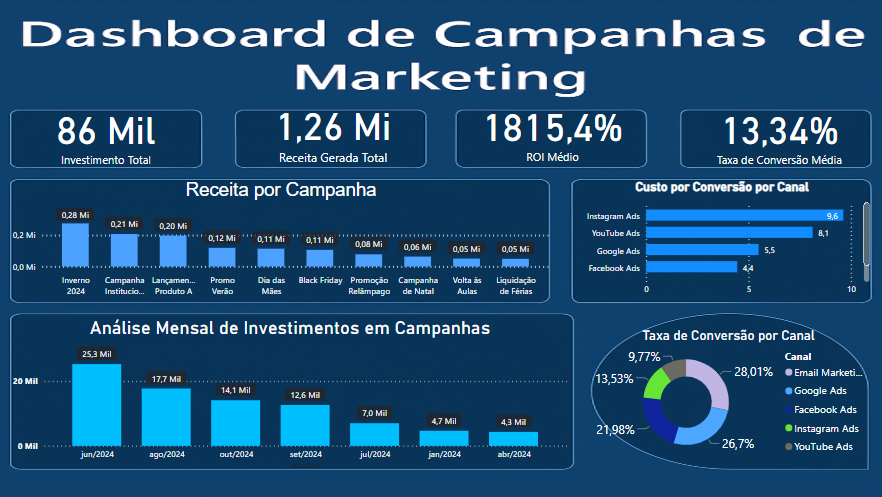

What the dashboard file says about the page in this screenshot:
{"tool":"powerbi","page":{"name":"Página 1","canvas":[1280,720],"ordinal":0},"visuals":[{"type":"card","fields":{"Values":["CampanhasMarketing.Investimento Total"]},"box":[30.2,145.1,255.8,99.2],"z":0},{"type":"card","fields":{"Values":["CampanhasMarketing.Receita Gerada Total"]},"box":[356.4,135.1,255.8,109.2],"z":1000},{"type":"card","fields":{"Values":["CampanhasMarketing.ROI Médio"]},"box":[656.8,138,286,103.5],"z":2000},{"type":"card","fields":{"Values":["CampanhasMarketing.Taxa de Conversão Média"]},"box":[991.6,145.1,268.7,99.2],"z":3000},{"type":"lineClusteredColumnComboChart","title":"Análise Mensal de Investimentos em Campanhas","fields":{"Category":["CampanhasMarketing.MêsAno"],"Y":["Sum(CampanhasMarketing.Investimento (R$))"]},"box":[18.7,458.4,807.7,224.2],"z":4000},{"type":"lineClusteredColumnComboChart","title":"Receita por Campanha","fields":{"Category":["CampanhasMarketing.Campanha"],"Y":["Sum(CampanhasMarketing.Receita Gerada (R$))"]},"box":[18.7,260.1,781.8,176.8],"z":5000},{"type":"donutChart","title":"Taxa de Conversão por Canal","fields":{"Category":["CampanhasMarketing.Canal"],"Y":["CampanhasMarketing.Média Taxa de Conversão"]},"box":[845,472.8,415.3,194],"z":6000},{"type":"clusteredBarChart","fields":{"Category":["CampanhasMarketing.Canal"],"Y":["CampanhasMarketing.Custo por Conversão"]},"box":[826.3,260.1,434,176.8],"z":6001}]}

Visuals, with their boxes in screenshot pixels (x1, y1, x2, y2), scaled from the page's 1280x720 canvas onto the 882x497 screenshot:
card - CampanhasMarketing.Investimento Total: 21:100:197:169
card - CampanhasMarketing.Receita Gerada Total: 246:93:422:169
card - CampanhasMarketing.ROI Médio: 453:95:650:167
card - CampanhasMarketing.Taxa de Conversão Média: 683:100:868:169
"Análise Mensal de Investimentos em Campanhas" lineClusteredColumnComboChart: 13:316:569:471
"Receita por Campanha" lineClusteredColumnComboChart: 13:180:552:302
"Taxa de Conversão por Canal" donutChart: 582:326:868:460
clusteredBarChart - CampanhasMarketing.Canal x CampanhasMarketing.Custo por Conversão: 569:180:868:302
